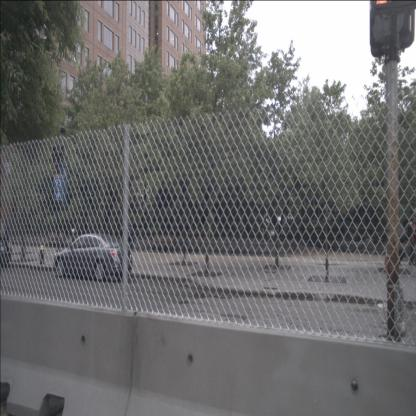barrier: (124, 310, 416, 416), (0, 293, 139, 416)
